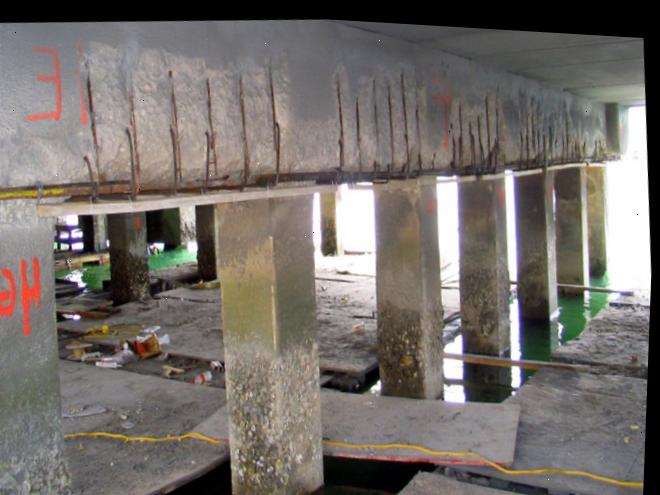exposed_rebar: (85, 63, 101, 186), (169, 70, 183, 192), (204, 77, 218, 188), (129, 79, 141, 197), (239, 75, 251, 184), (270, 66, 280, 183), (401, 72, 410, 174), (125, 127, 137, 199), (337, 78, 345, 171), (387, 84, 395, 164), (415, 85, 422, 174), (84, 155, 98, 199), (492, 105, 501, 172), (355, 96, 363, 169), (373, 79, 380, 160), (486, 95, 492, 168), (477, 114, 485, 168), (468, 120, 476, 172), (450, 121, 457, 174), (519, 89, 523, 169), (459, 104, 463, 170), (526, 111, 530, 167), (531, 113, 536, 156), (548, 125, 553, 164), (565, 111, 569, 157), (542, 134, 546, 163), (537, 122, 540, 156), (432, 152, 436, 170)
spalling: (0, 39, 620, 226)
